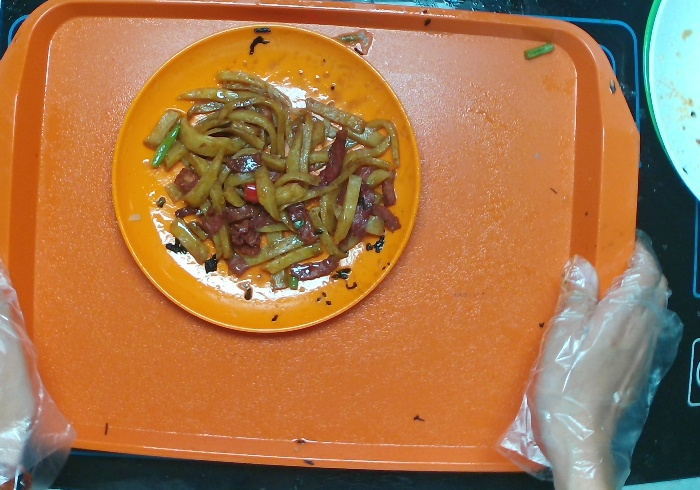HZYJPL-Ju_Huang_Yuan_Pan: (109, 23, 421, 337)
